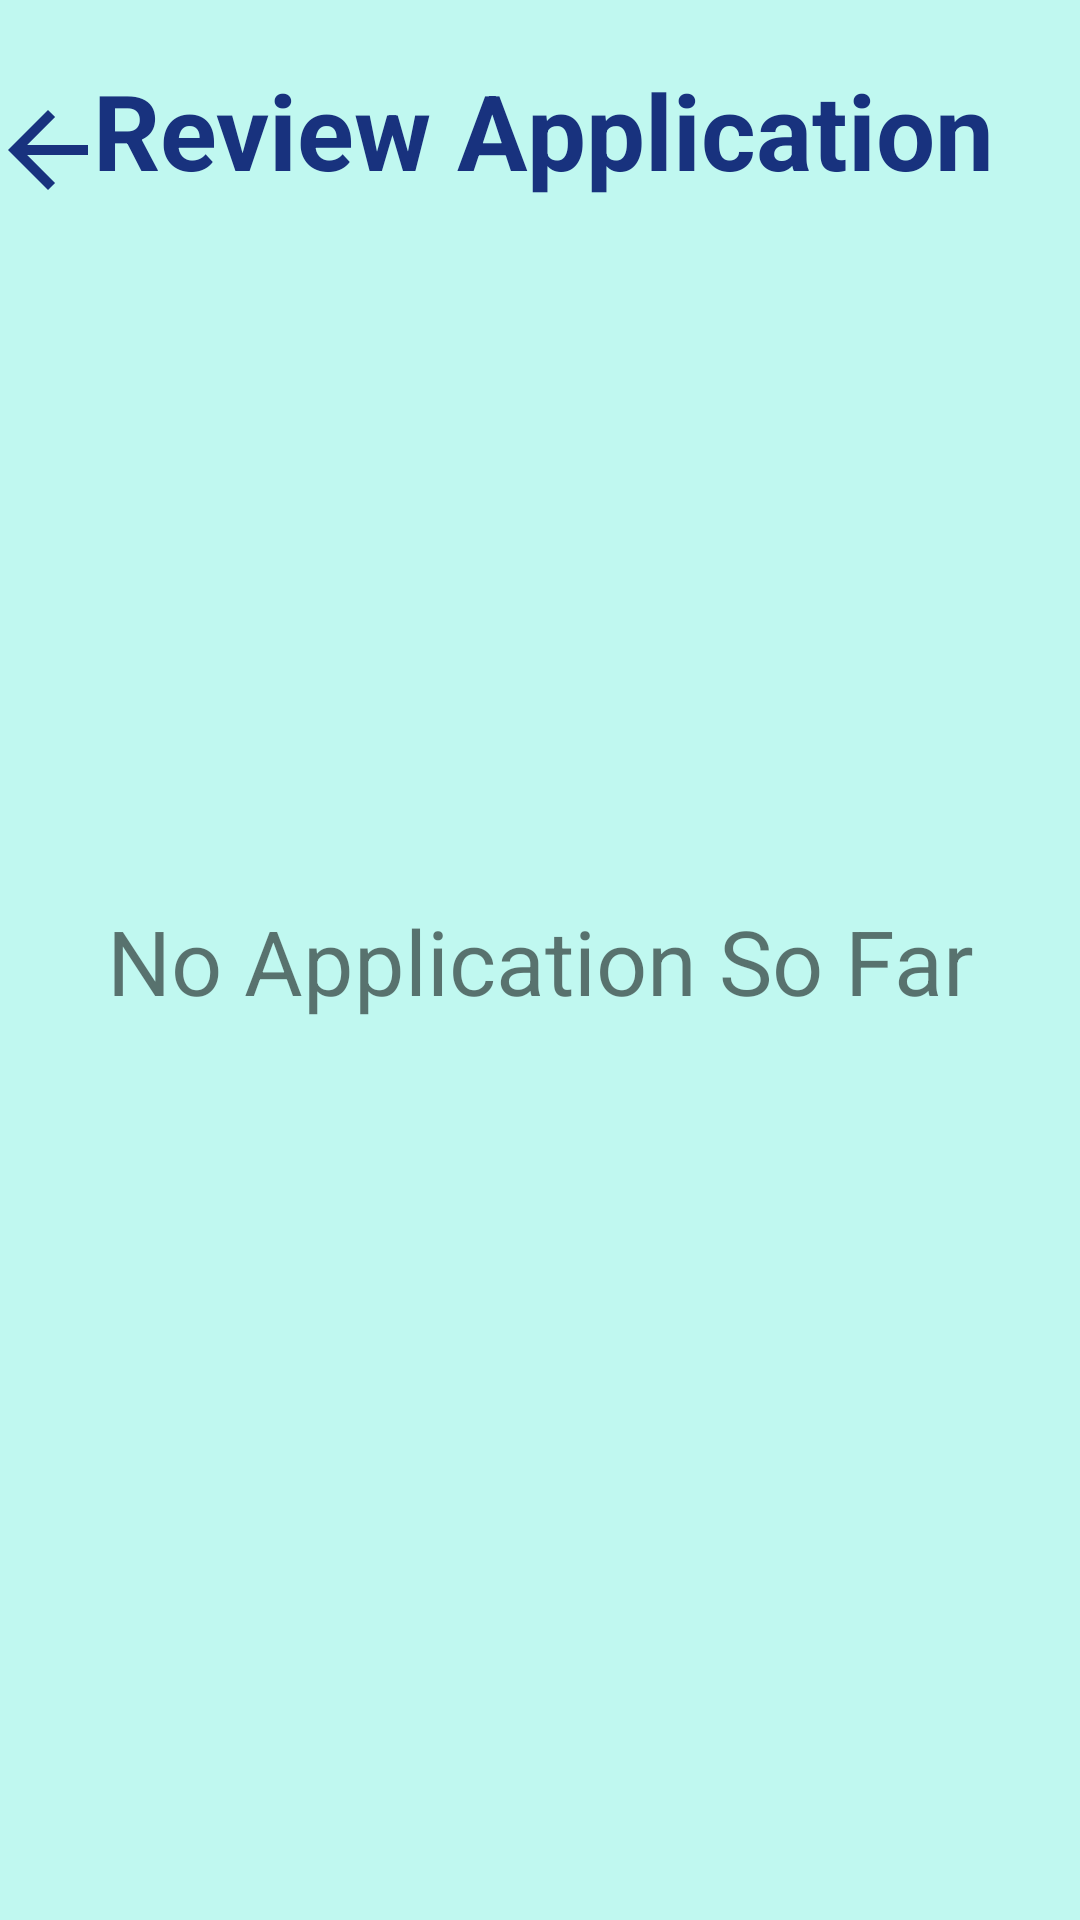

Icon click points for this 1080*1920 phone screenshot, format (x=x, y=y):
back: (x=48, y=150)
